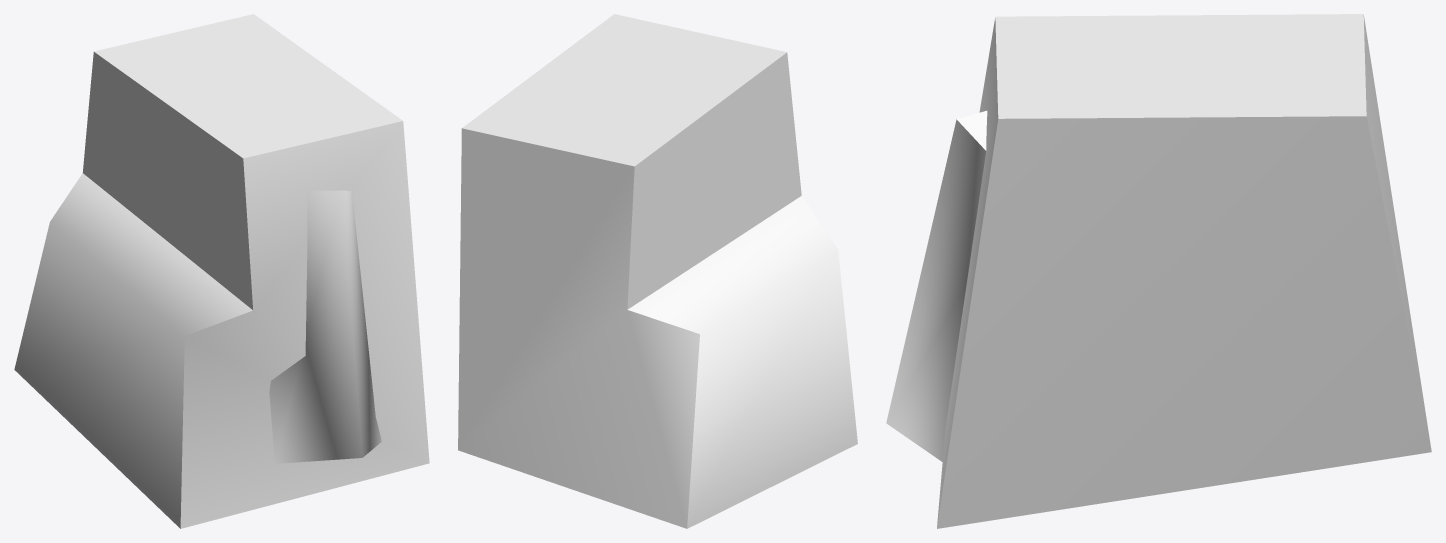
File: LimbHandLeft.obj
3 renders of one model, left to right at view 1: azimuth 30°, elevation 25°; view 2: azimuth 150°, elevation 25°; view 3: azimuth 270°, elevation 25°, orthographic. The views are drawn at different scales.
Bounding box in the file's own units: 0.9412 × 1.38 × 1.53.
1 material, 1 textured.
